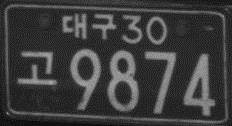0: (146, 15, 168, 45)
3: (120, 14, 142, 44)
4: (183, 52, 215, 117)
7: (143, 50, 176, 114)
8: (106, 50, 140, 112)
9: (69, 48, 102, 111)
고: (16, 50, 58, 86)
대구_O: (61, 12, 116, 40)
